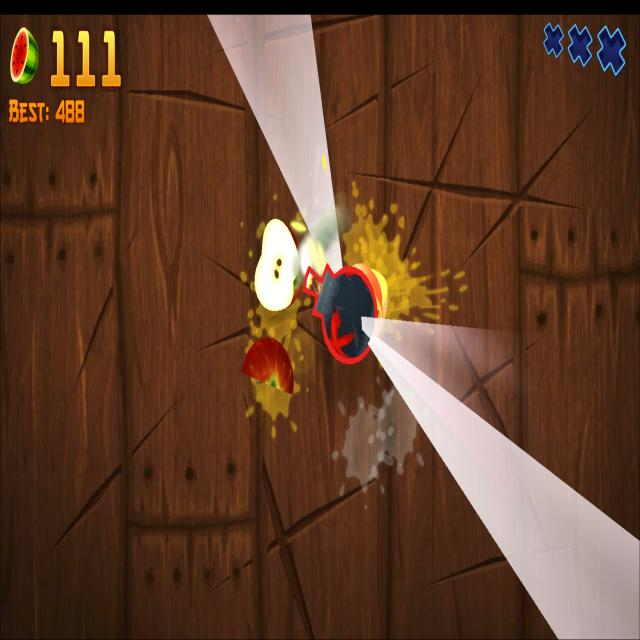bomb: (302, 264, 375, 364)
